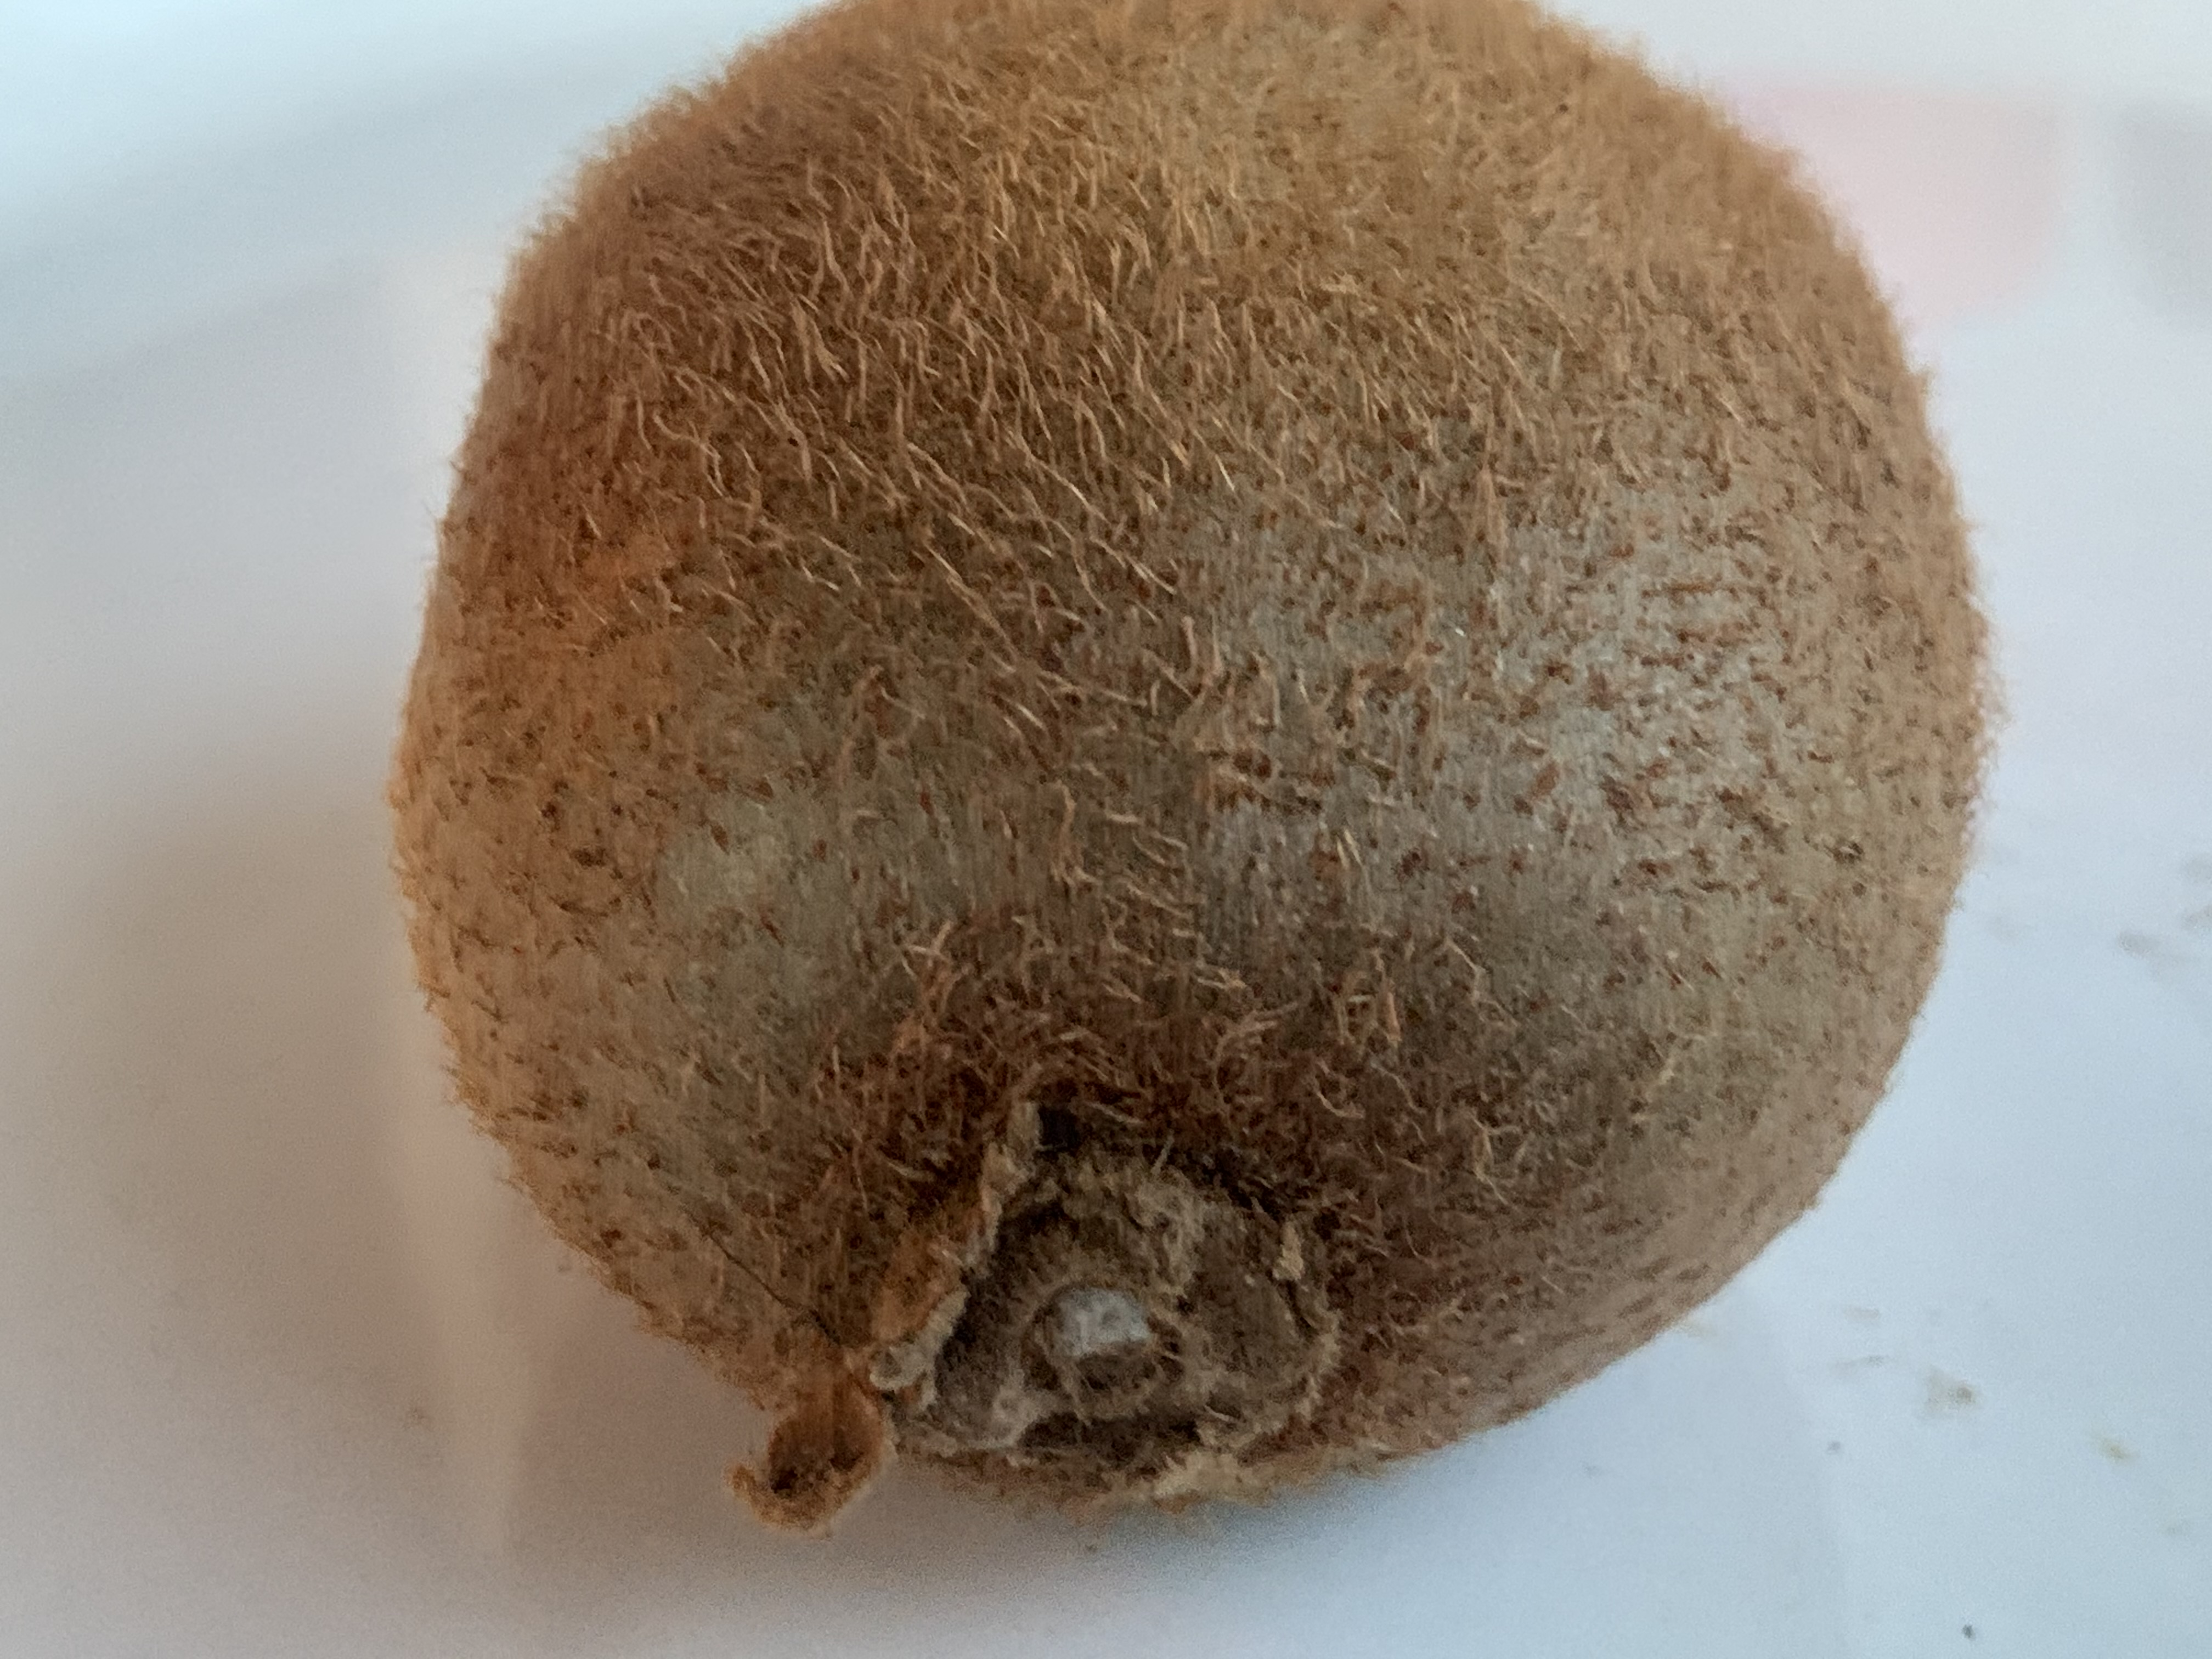kiwi: (388, 3, 1998, 1547)
